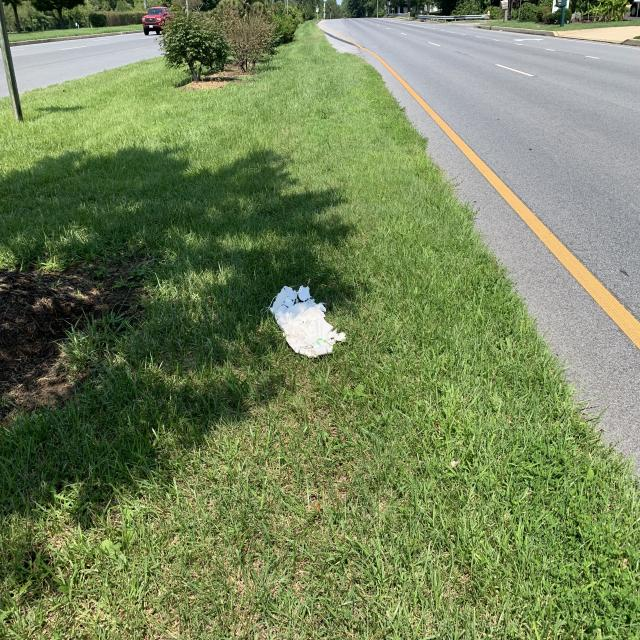Paper: (267, 281, 350, 362)
